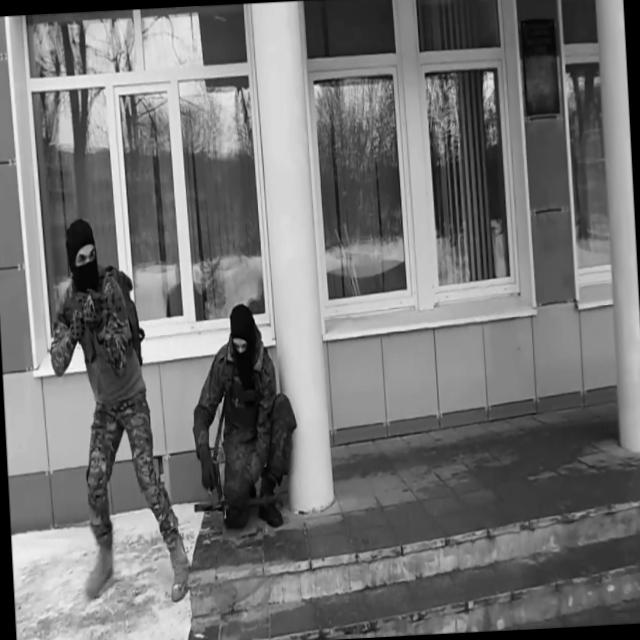gun: (62, 286, 125, 366), (201, 461, 223, 504)
person with a gun: (44, 213, 194, 608), (186, 302, 302, 532)
